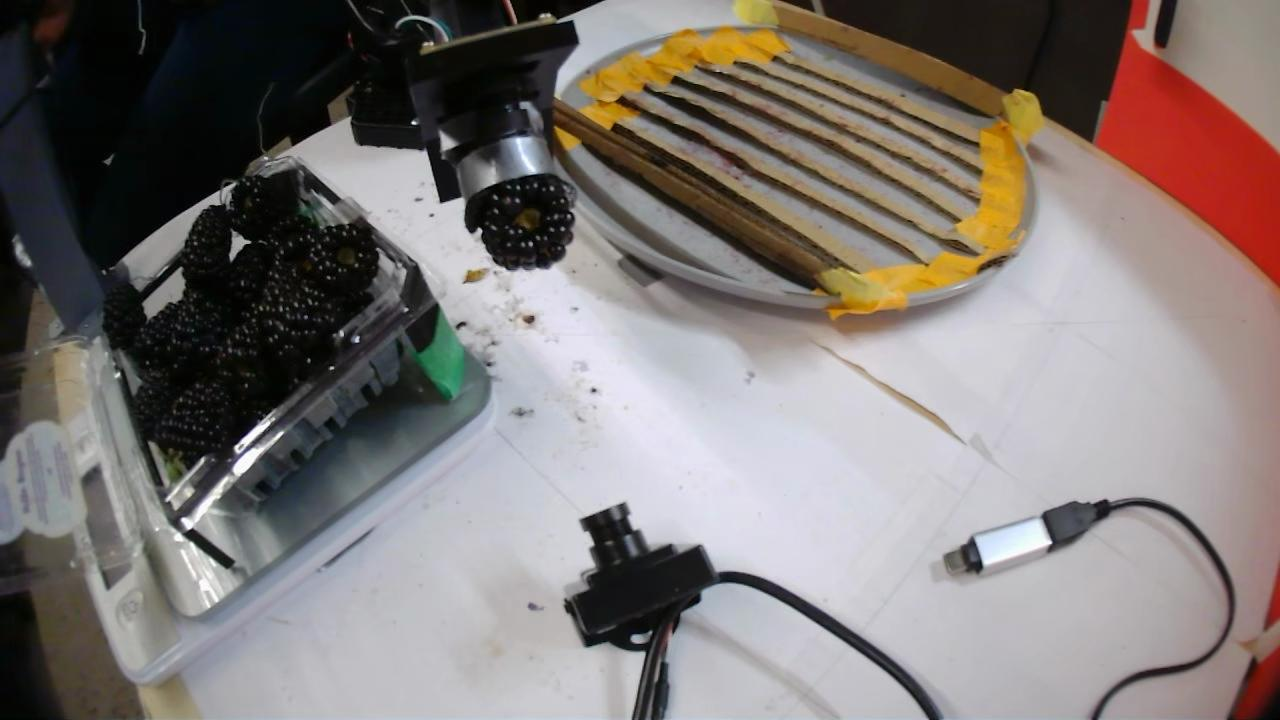berry: (479, 175, 574, 269), (261, 260, 332, 384), (153, 371, 238, 463), (179, 204, 232, 297), (227, 175, 297, 241), (172, 289, 225, 375), (219, 319, 272, 401), (317, 223, 379, 293), (131, 302, 183, 381), (102, 281, 146, 348), (132, 380, 176, 441), (230, 242, 272, 305), (266, 214, 320, 261), (323, 290, 373, 334)
